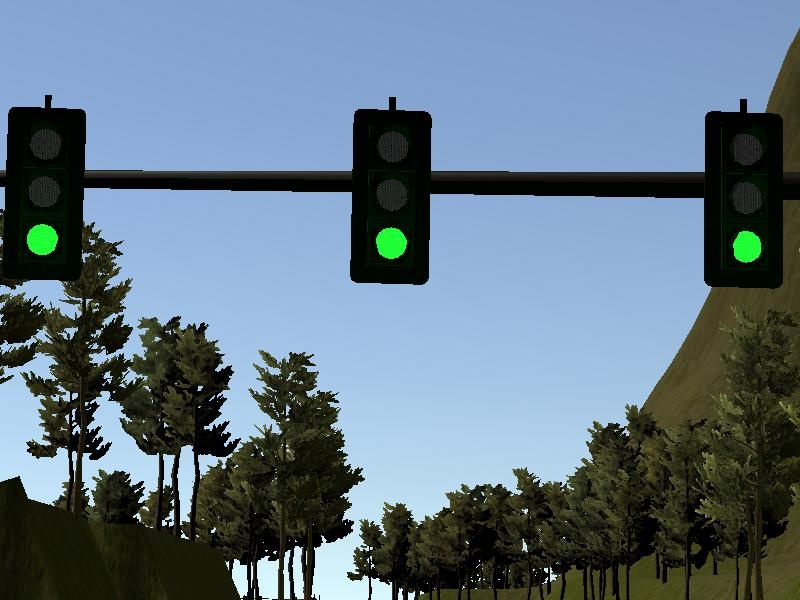traffic_light_green: (1, 90, 792, 290)
